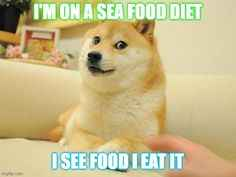doge: (80, 18, 158, 92)
